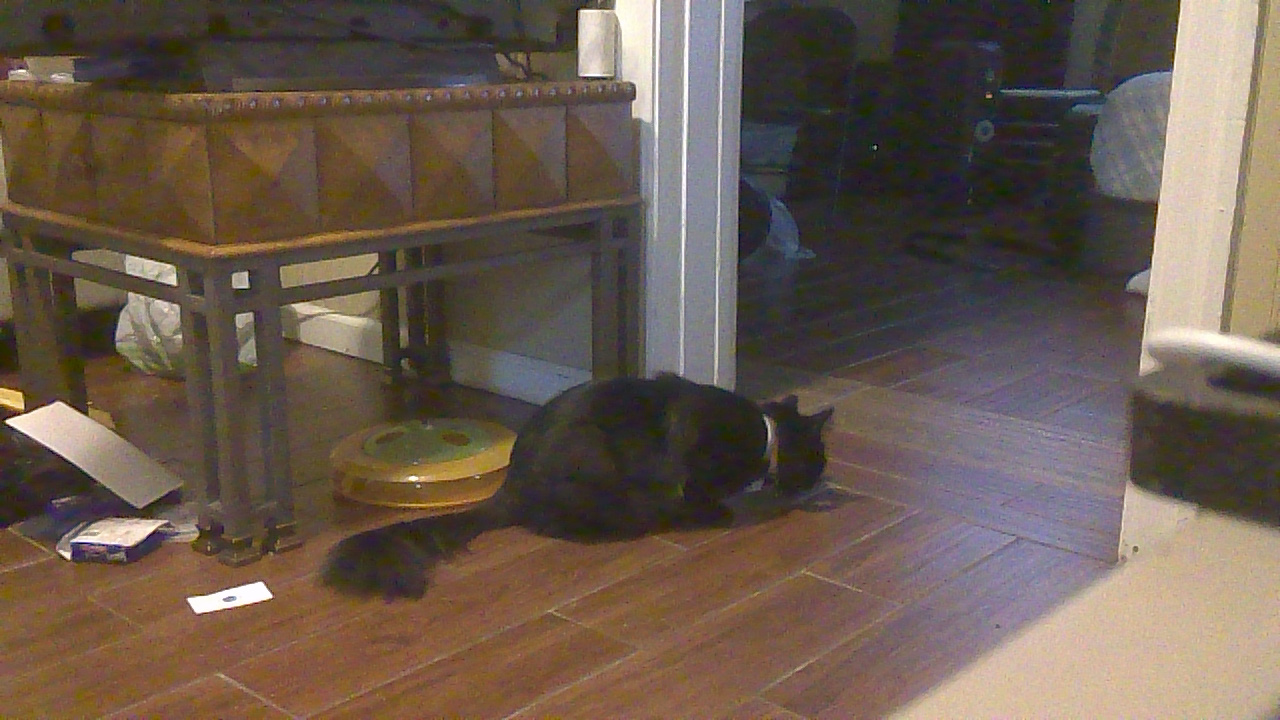cat: (317, 369, 837, 602)
